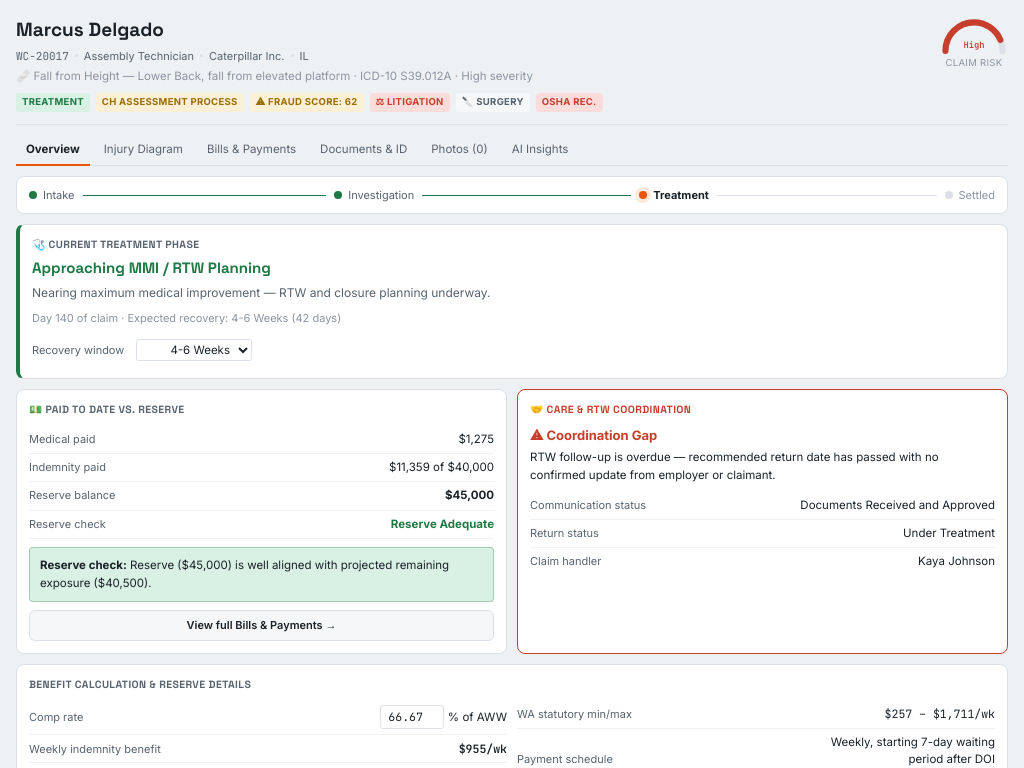
Test case: a claim with no photos says so, and its label reads zero
The image size is (1024, 768).
Click the tab with test id "tab-photos".
click(459, 150)  # box [421, 134, 498, 166]
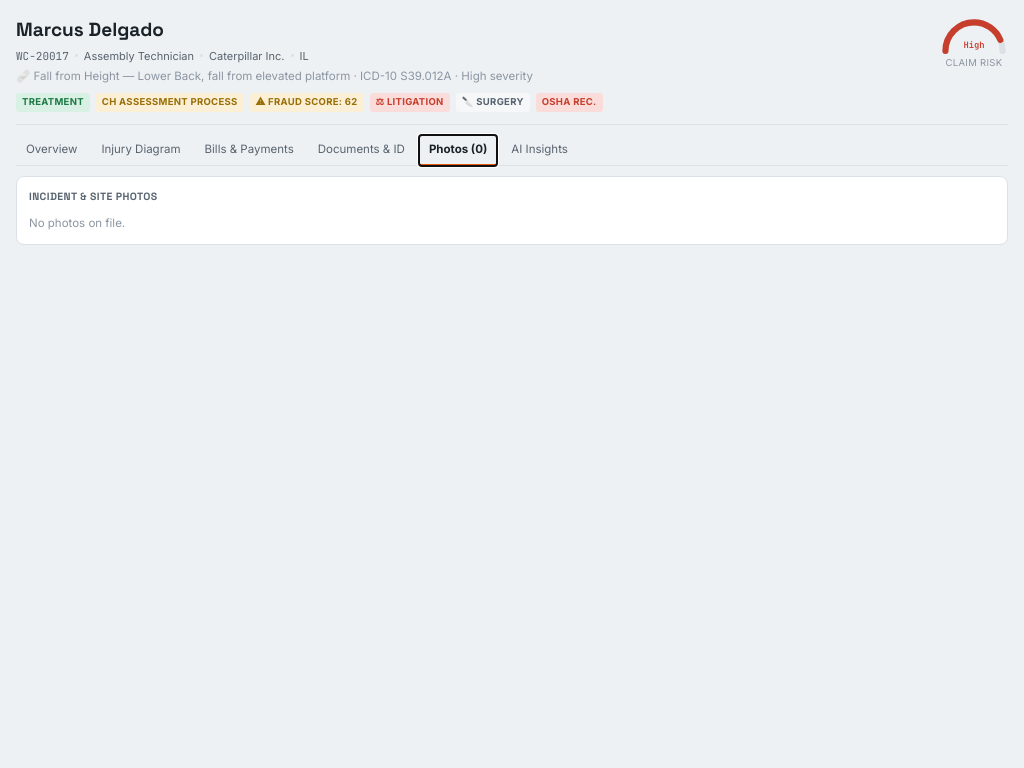
Expected: the text with test id "photos-empty" reads "No photos on file.", [29, 216, 125, 230]
